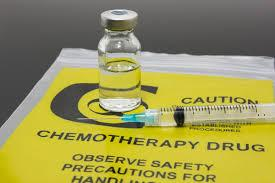Iv_Bottle: (98, 9, 140, 111)
Syringe: (120, 103, 274, 125)
